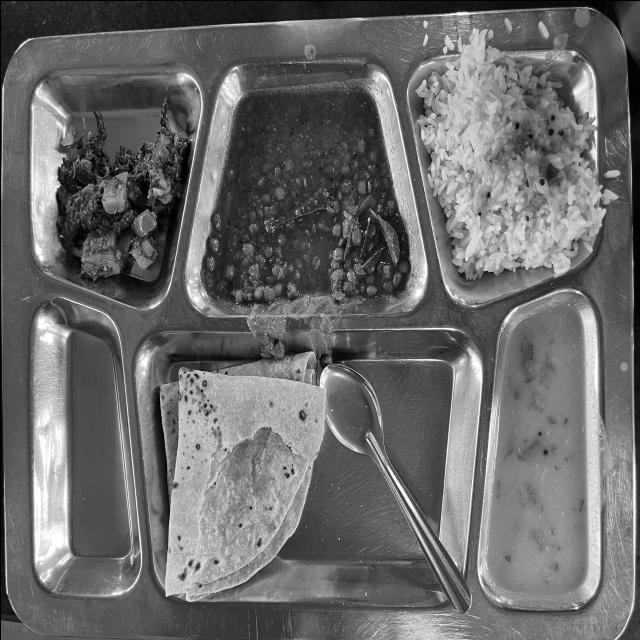100.12- Food Left: (4, 46, 618, 634)
